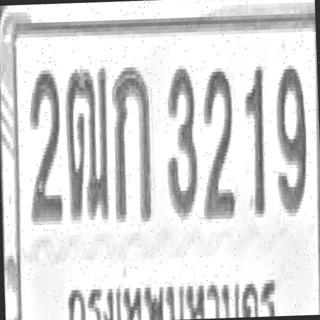A01: (110, 63, 152, 222)
A18: (64, 64, 111, 220)
N01: (243, 62, 267, 214)
N02: (26, 66, 62, 222), (200, 66, 236, 217)
N03: (164, 65, 198, 216)
N09: (273, 63, 308, 211)
